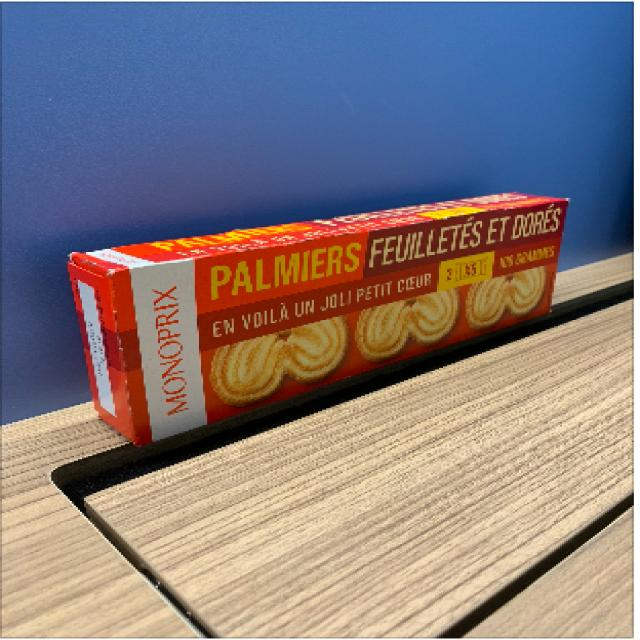object_name: (69, 233, 558, 341)
